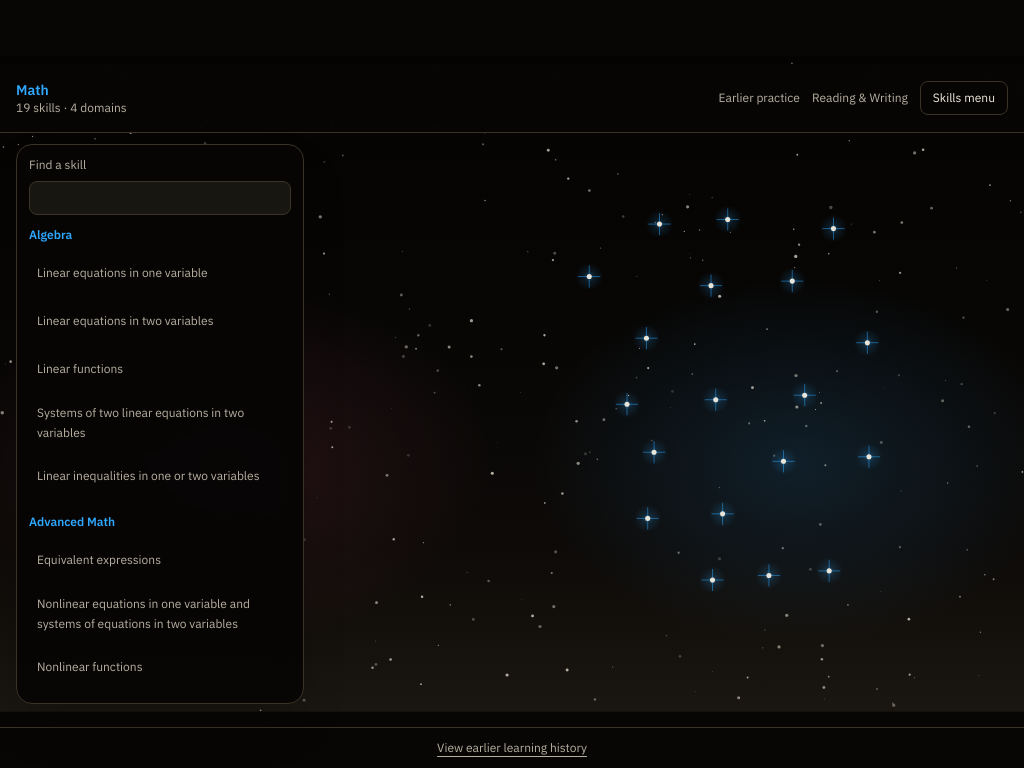
it: 39-skill menu and preserved lesson history › displays a preserved earlier result only on its lesson, not as canonical mastery
The width and height of the screenshot is (1024, 768).
Step 1. Click the button "Linear equations in one variable" → (160, 273), box left=29, top=251, right=291, bottom=295
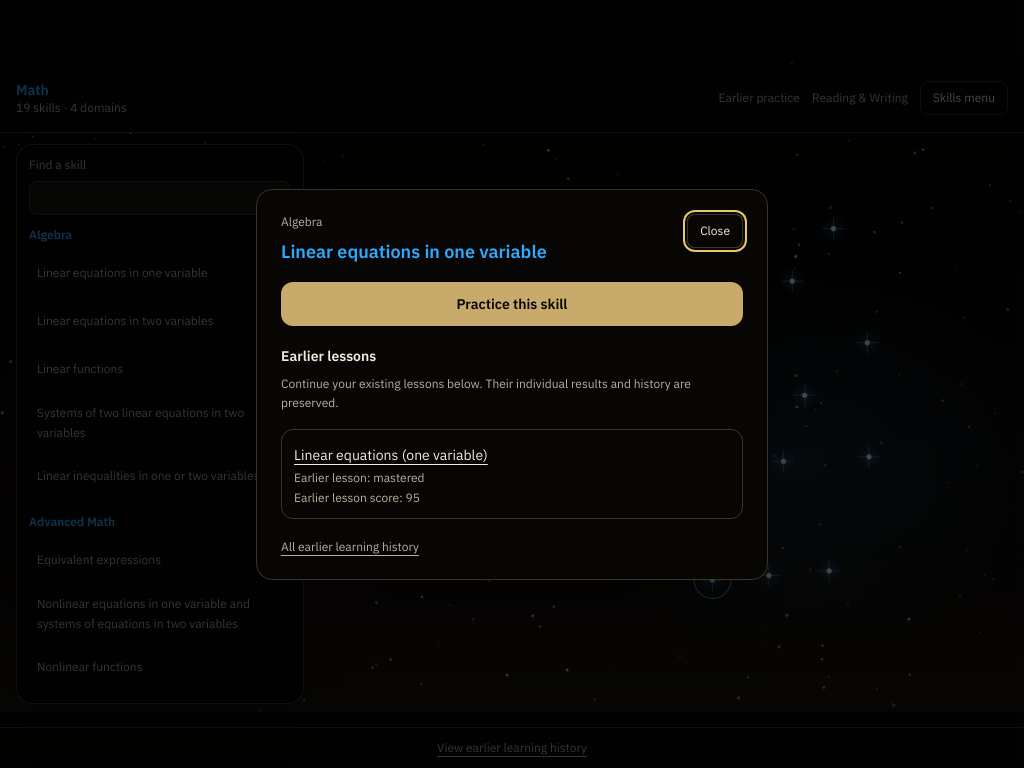
Check: the text "Earlier lesson: mastered" is shown, box left=294, top=470, right=424, bottom=484
Check: the text "Earlier lesson score: 95" is shown, box left=294, top=490, right=420, bottom=504
